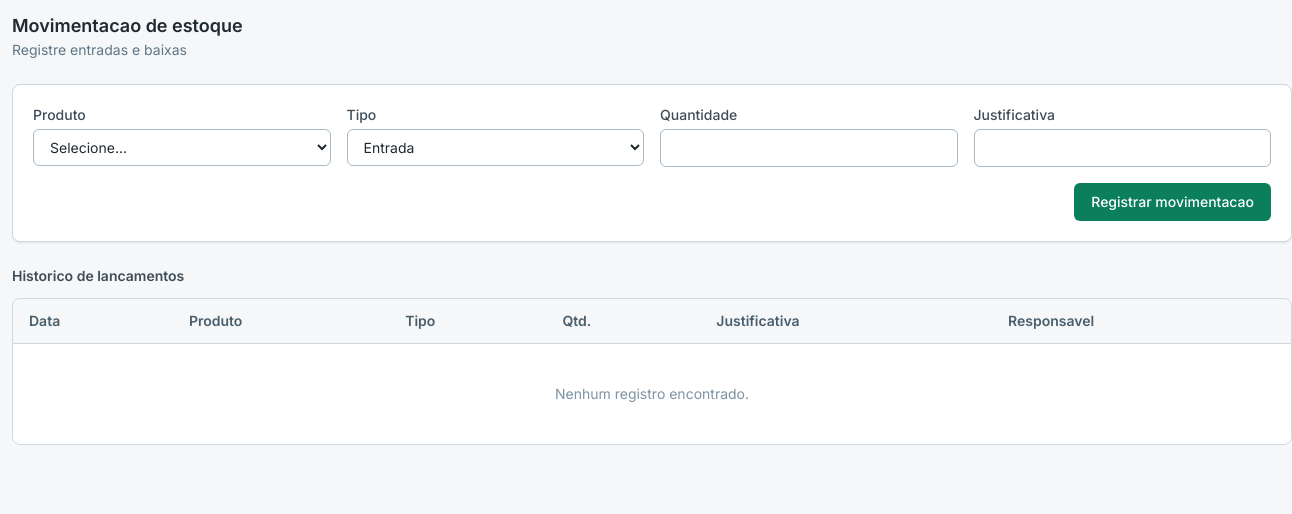
Test: Movimentacoes (RN-F02) › bloqueia saida superior ao saldo disponivel
Check: the heading "Historico de lancamentos" is shown, box [12,267,184,284]
Select "Cabo Flexivel (saldo: 5)" in the dropdown labelled "Produto" at coordinates (182, 148), box [33,129,330,166]
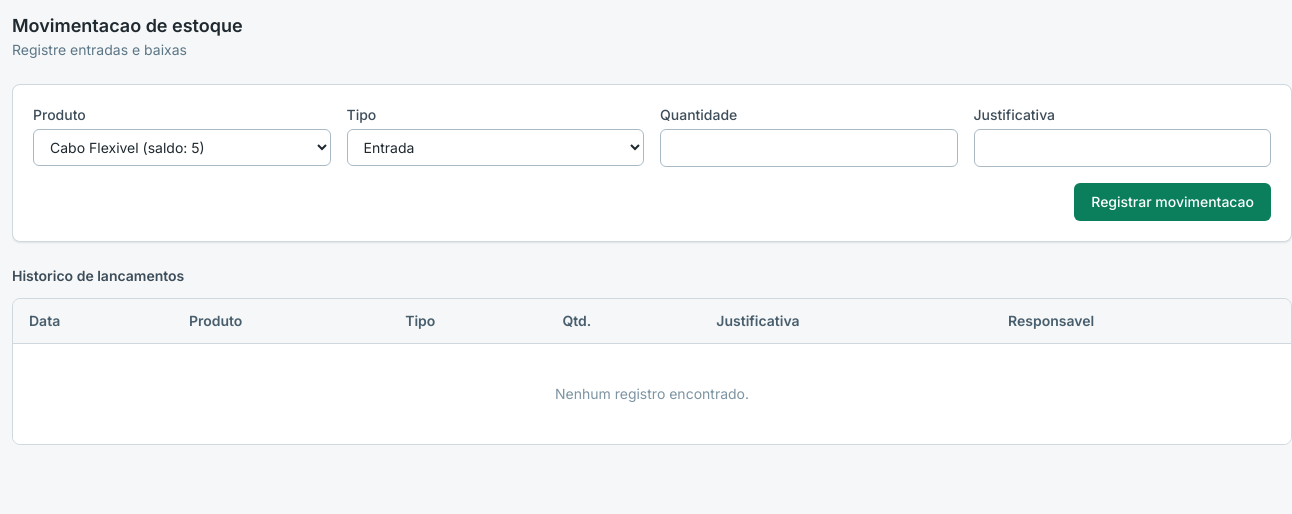
Select "Saida" in the dropdown labelled "Tipo" at coordinates (495, 148), box [346,129,644,166]
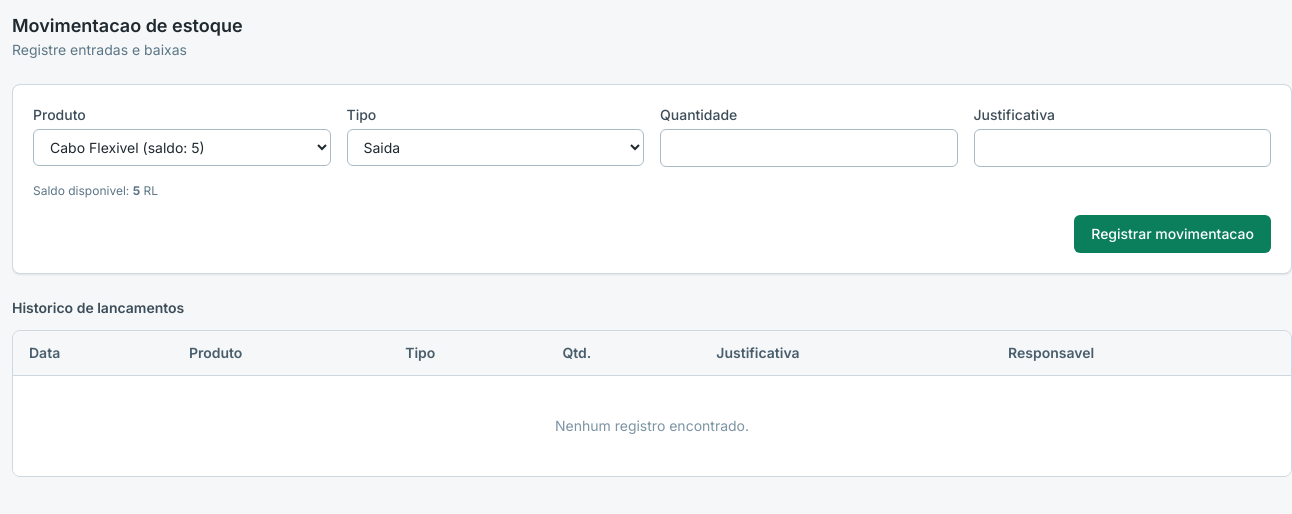
Type "10" into the number field labelled "Quantidade".
click(809, 148); type("10")  # box [660,129,958,167]
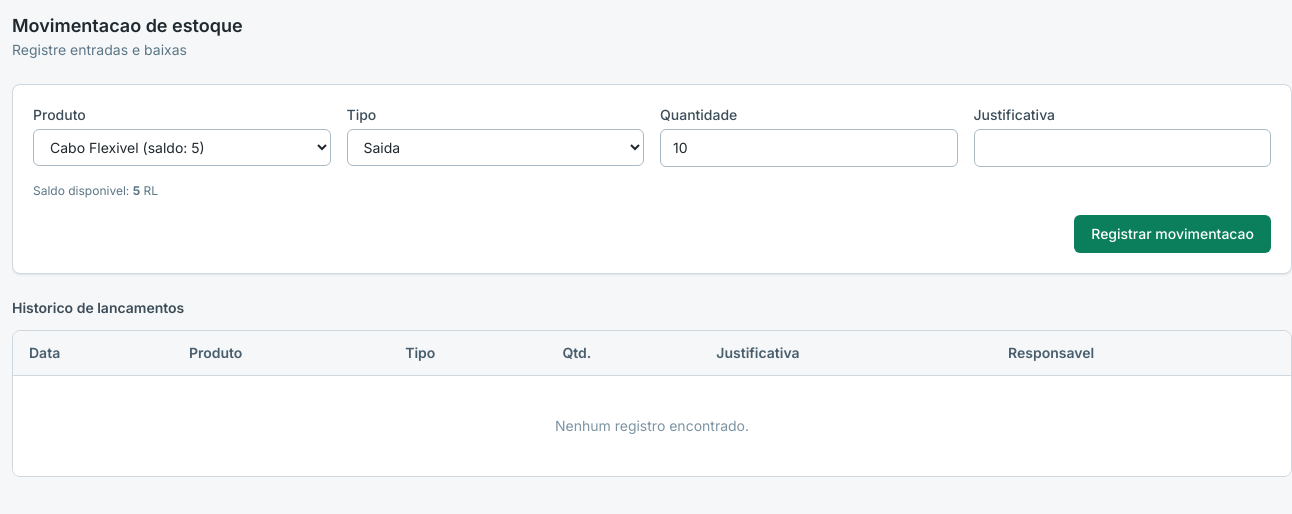
Click the button "Registrar movimentacao".
click(1173, 234)  # box [1074,215,1271,253]
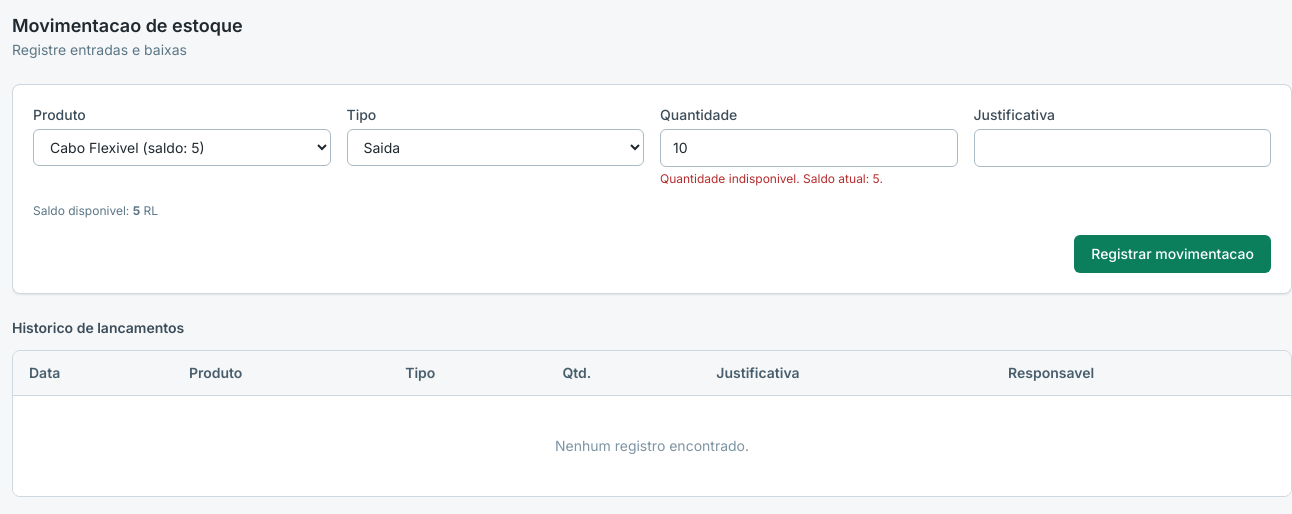
Check: the text "Quantidade indisponivel. Saldo atual: 5." is shown, box [660,171,883,186]
